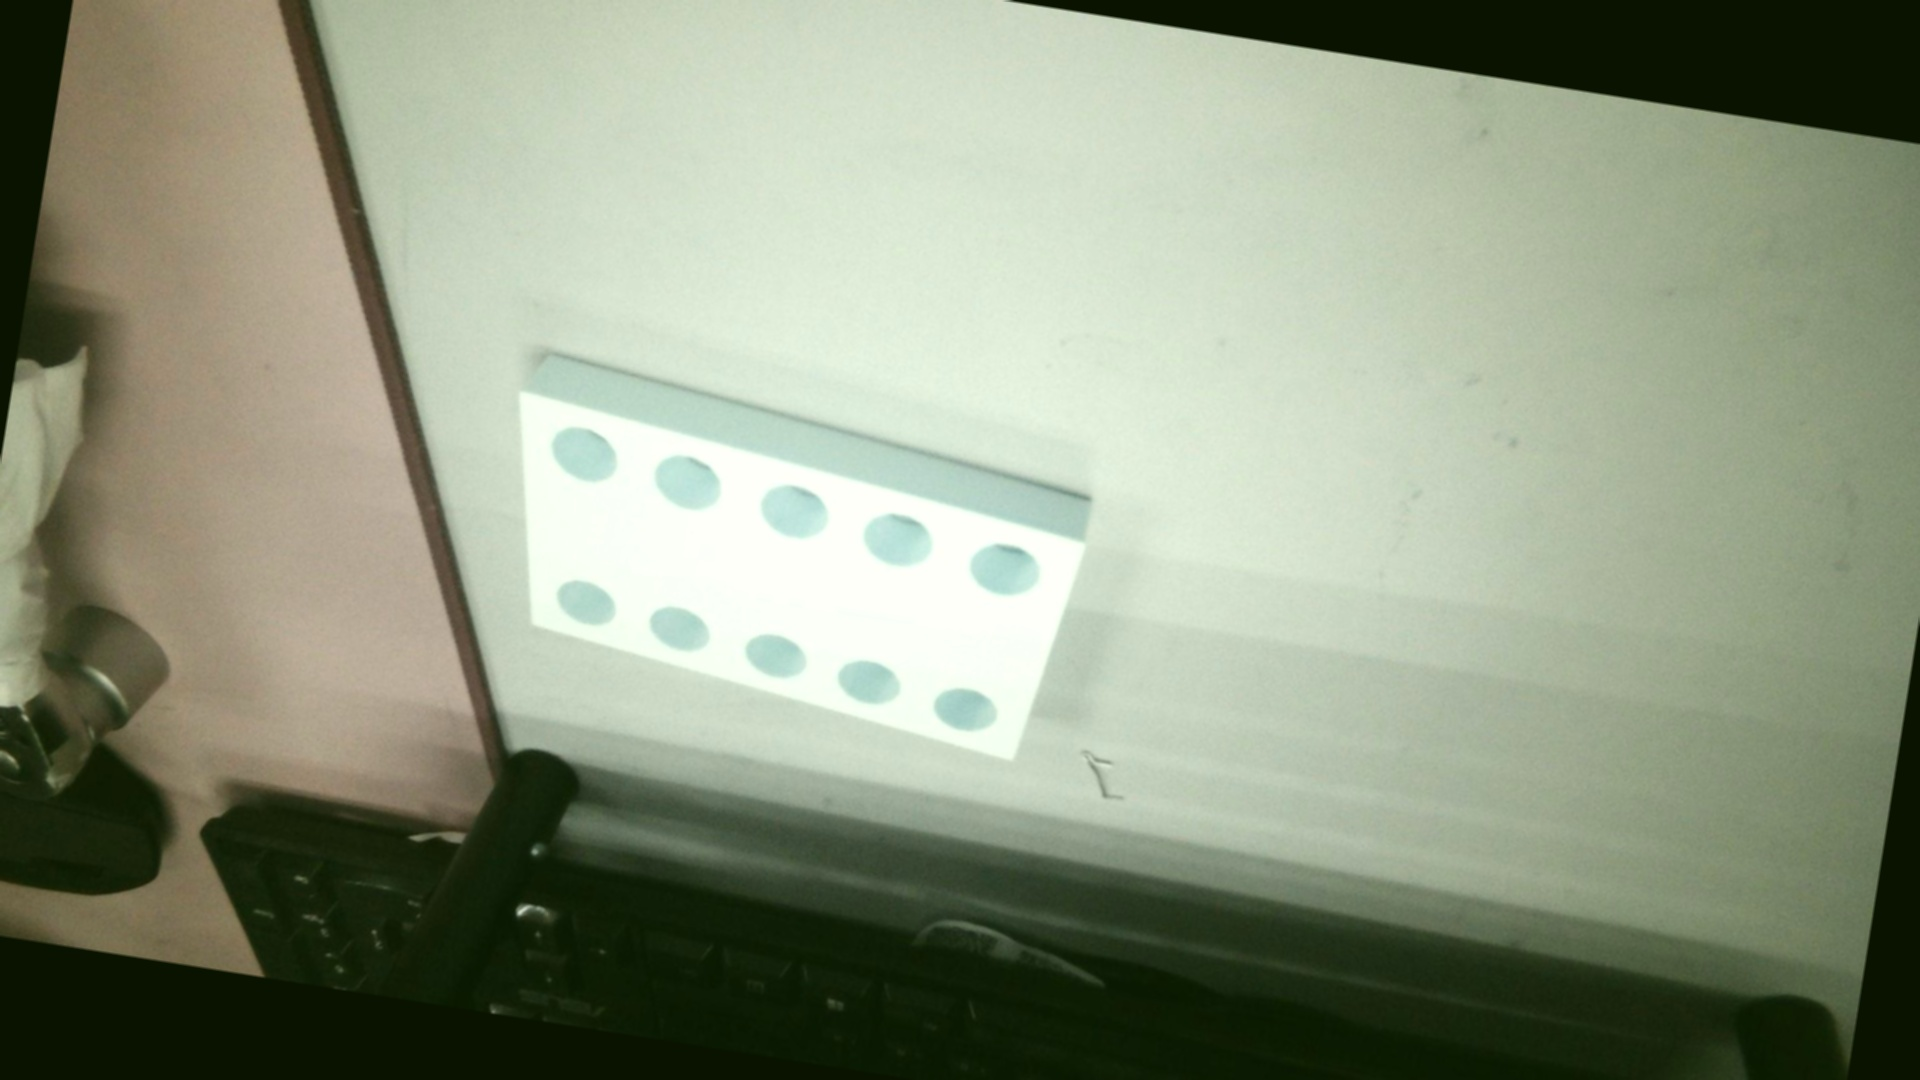hole: (853, 502, 943, 578), (752, 472, 837, 549), (647, 443, 728, 520), (963, 535, 1047, 604), (543, 415, 622, 488), (543, 568, 622, 632), (832, 651, 909, 713), (736, 632, 808, 692), (932, 680, 1005, 740), (644, 604, 715, 658)
obj: (473, 326, 1113, 778)
